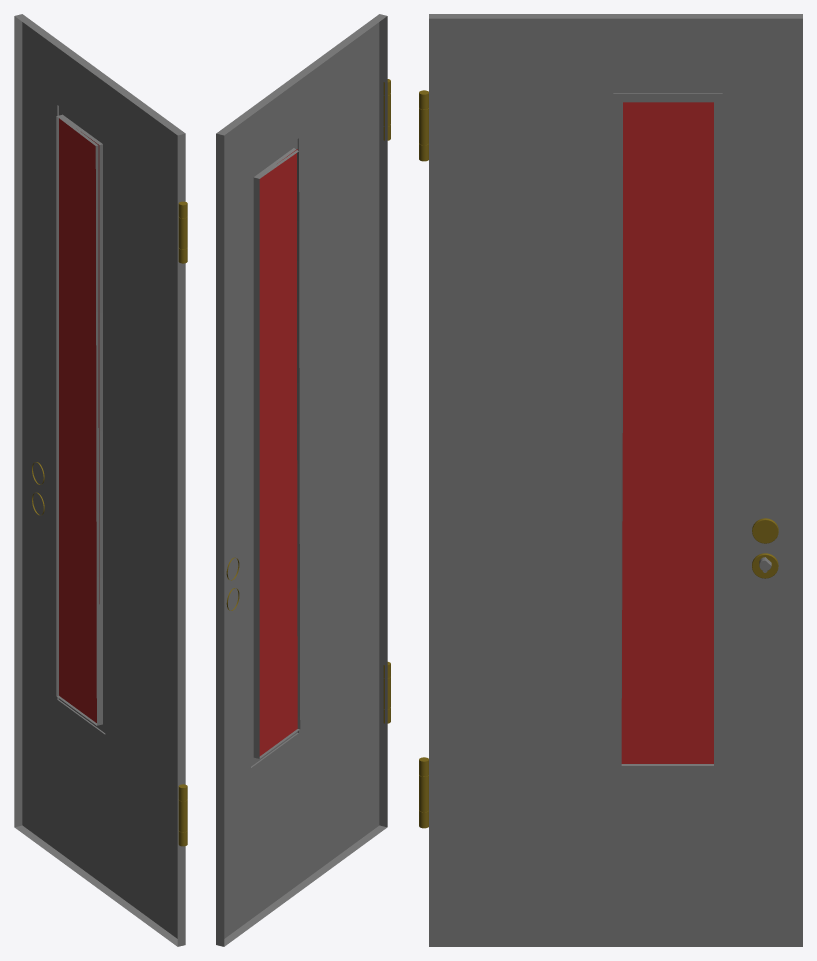
The model's file is SM_Door_03.fbx.
3 renders of one model, left to right at view 1: azimuth 30°, elevation 25°; view 2: azimuth 150°, elevation 25°; view 3: azimuth 270°, elevation 25°, orthographic. The views are drawn at different scales.
Visible parts, largest first — view 1: SM_Door_03; view 2: SM_Door_03; view 3: SM_Door_03.
Part boxes in pixels (x1,y1,x2,y2): SM_Door_03: [14, 14, 187, 946]; SM_Door_03: [216, 14, 390, 946]; SM_Door_03: [419, 14, 802, 946].
Size of the model in its own units: 4.59 by 217 by 81.4.
